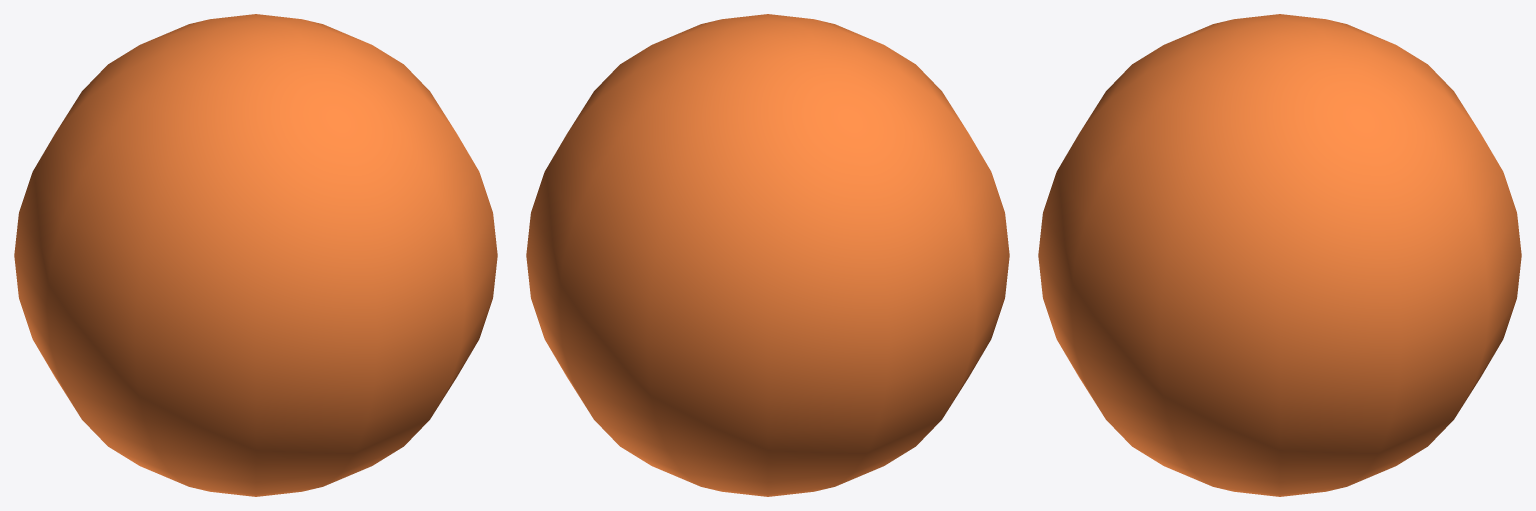
File: ball.fbx
3 renders of one model, left to right at view 1: azimuth 30°, elevation 25°; view 2: azimuth 150°, elevation 25°; view 3: azimuth 270°, elevation 25°, orthographic.
Parts seen in each view (by area): view 1: pingpong_ball; view 2: pingpong_ball; view 3: pingpong_ball.
Part boxes in pixels (left/top/right/bottom): pingpong_ball: left=14, top=14, right=497, bottom=496; pingpong_ball: left=526, top=14, right=1009, bottom=496; pingpong_ball: left=1038, top=14, right=1521, bottom=496.
Size of the model in its own units: 4 by 4 by 4.
